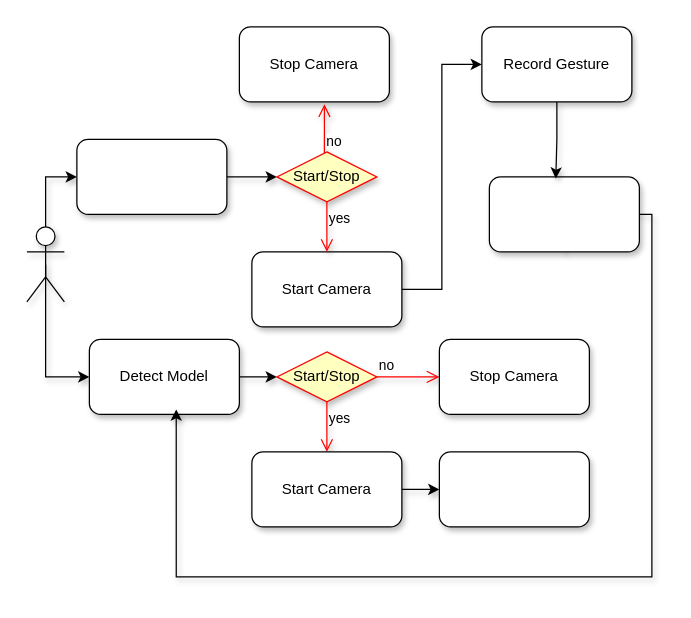
Some shapes in this 691 by 618 pixel diagram are drawn without their labels. The centre of each missing label's shape, as x and y in pixels:
Detect Sign: the point at 515,491
Train Model: the point at 565,216
Tran Model: the point at 152,178
USER: the point at 46,266
